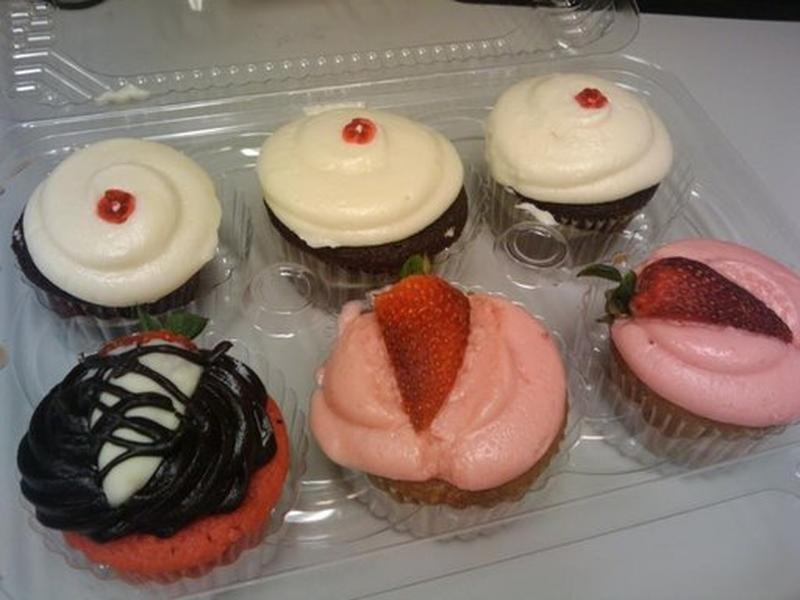cup_cake: (15, 48, 313, 600)
